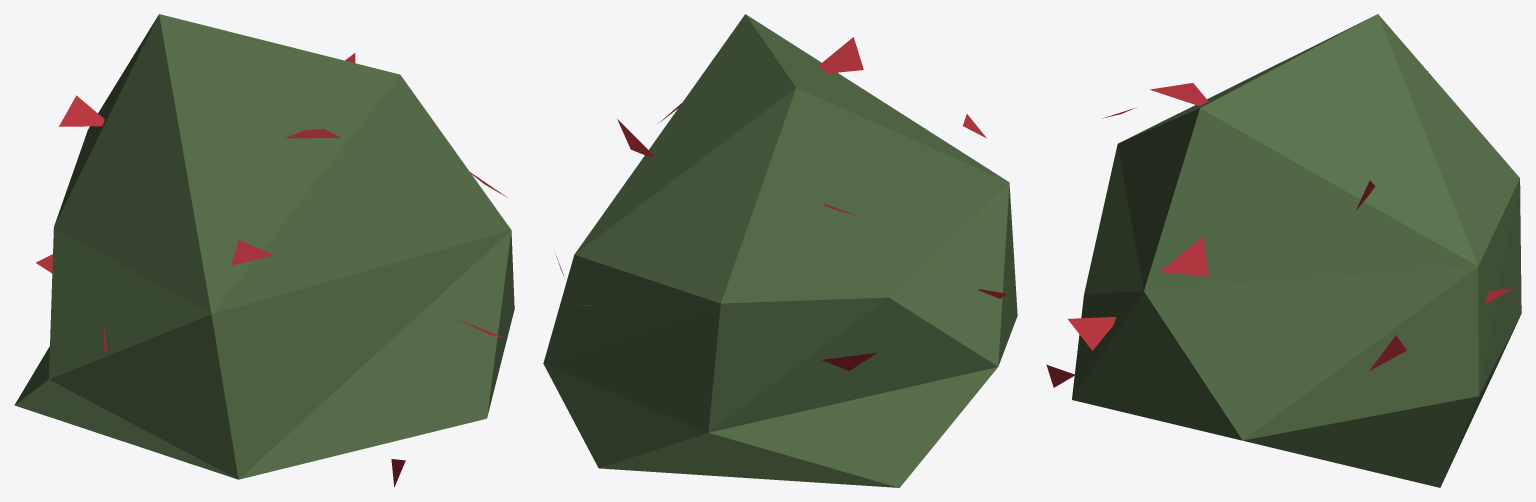
File: BushBerries_2.lod3.glb
3 views of the same model, side by side, from view 1: azimuth 30°, elevation 25°; view 2: azimuth 150°, elevation 25°; view 3: azimuth 270°, elevation 25° (orthographic). The views are drawn at different scales.
Parts seen in each view (by area): view 1: BushBerries_2; view 2: BushBerries_2; view 3: BushBerries_2.
Part boxes in pixels (x1,y1,x2,y2): BushBerries_2: (14, 14, 514, 486); BushBerries_2: (543, 14, 1017, 487); BushBerries_2: (1046, 14, 1521, 487).
Size of the model in its own units: 1.29 by 1.15 by 1.26.
